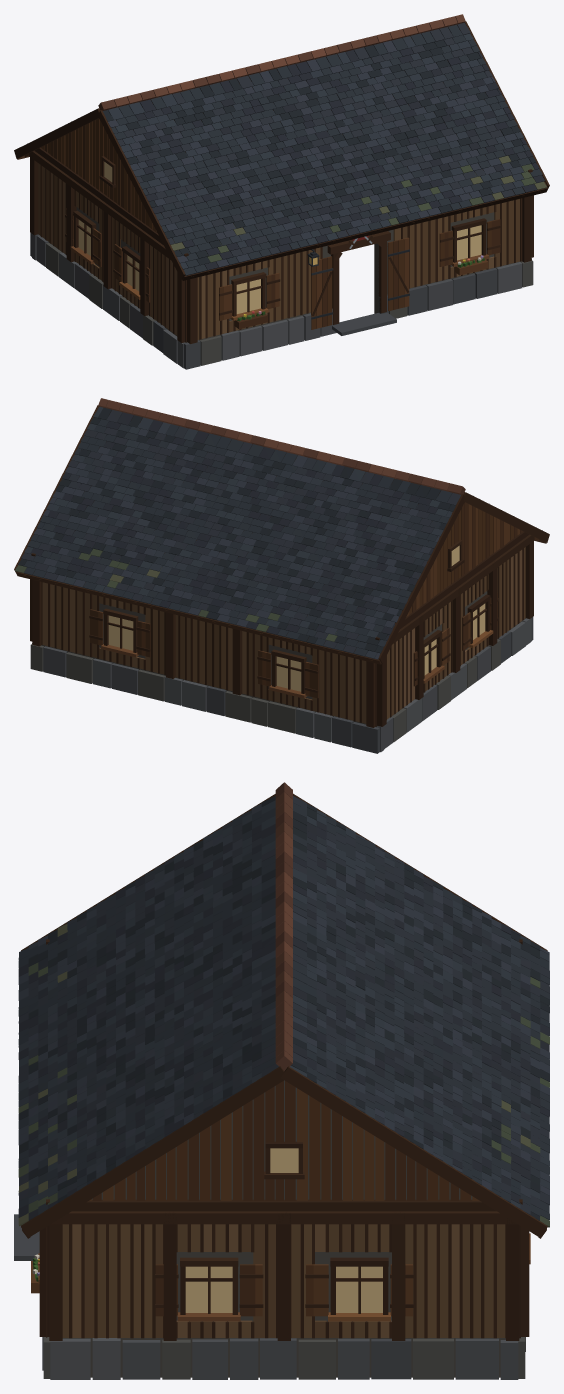
Rendered from trainer.glb.
3 renders of one model, top to bottom at view 1: azimuth 30°, elevation 25°; view 2: azimuth 150°, elevation 25°; view 3: azimuth 270°, elevation 25°, orthographic. The views are drawn at different scales.
Visible parts, largest first — view 1: trainer_shell, trainer_glass; view 2: trainer_shell, trainer_glass; view 3: trainer_shell, trainer_glass.
Boxes of the visible parts, bbox=[...] form: trainer_shell: bbox=[14, 14, 549, 369]; trainer_glass: bbox=[78, 162, 481, 313]; trainer_shell: bbox=[14, 398, 549, 753]; trainer_glass: bbox=[108, 545, 485, 691]; trainer_shell: bbox=[14, 782, 549, 1379]; trainer_glass: bbox=[185, 1148, 382, 1312].
Bounding box in the file's own units: 13.94 × 7.74 × 11.41.
